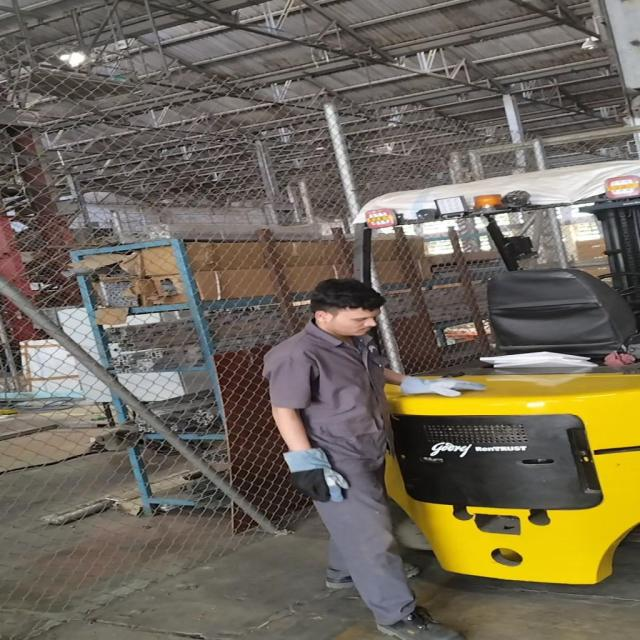Gloves-Detection: (279, 446, 346, 506), (388, 368, 484, 408)
